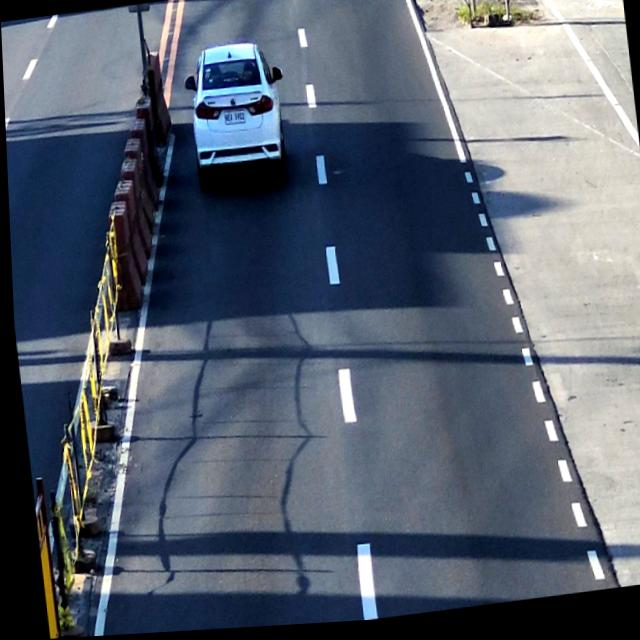Car: (180, 43, 290, 196)
License-Plate: (219, 109, 246, 130)
